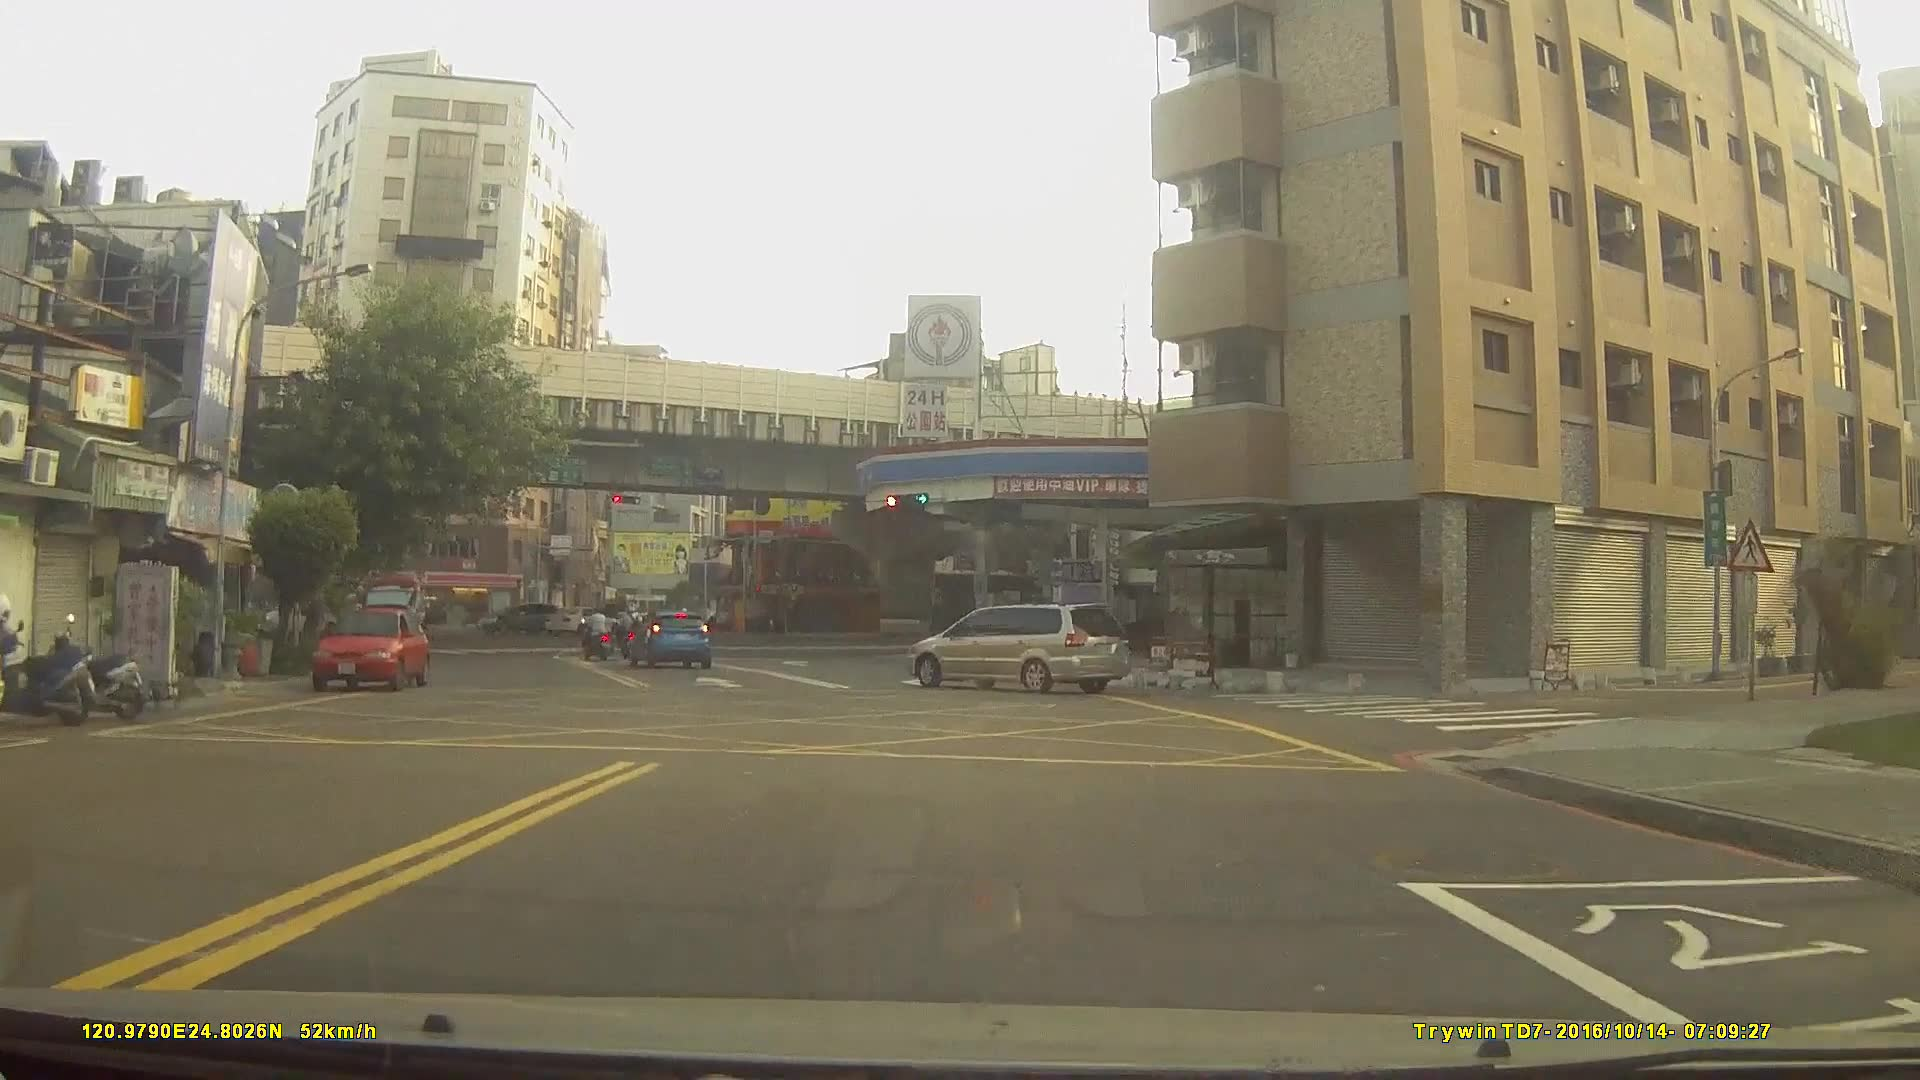rider: (582, 608, 614, 664)
vehicle: (906, 601, 1128, 692), (307, 604, 430, 691), (621, 610, 711, 670), (475, 602, 559, 636), (543, 604, 621, 635)
